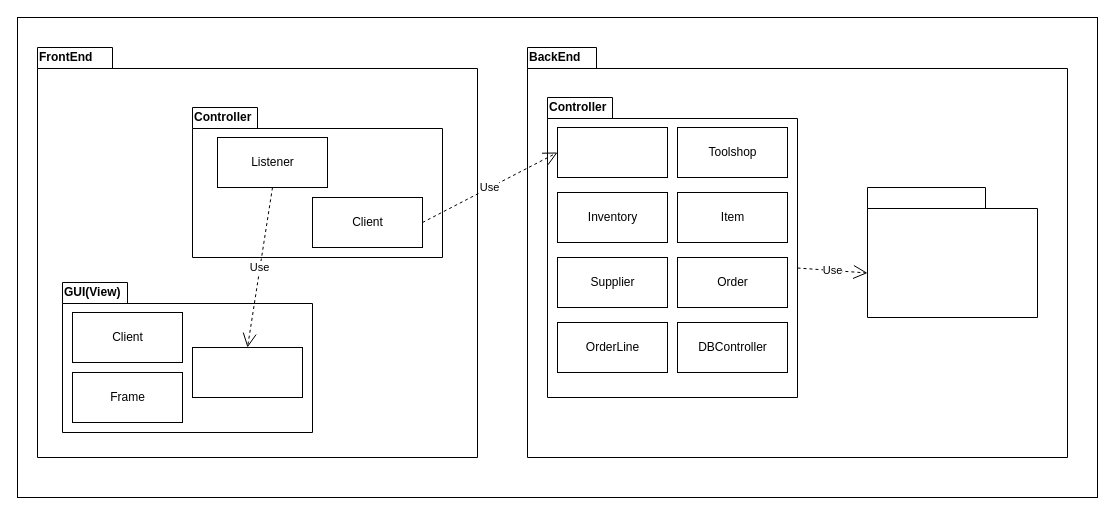
Some shapes in this 1115 by 515 pixel diagram are drawn without their labels. Here are the shapes that lost their labels. From the top down, the box of each, then its label:
(556, 126, 668, 178): Server
(866, 186, 1038, 318): Database(Model)
(192, 346, 302, 398): Buttons
